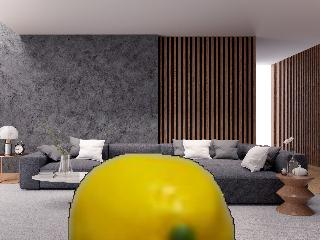lemon: (68, 153, 234, 240)
